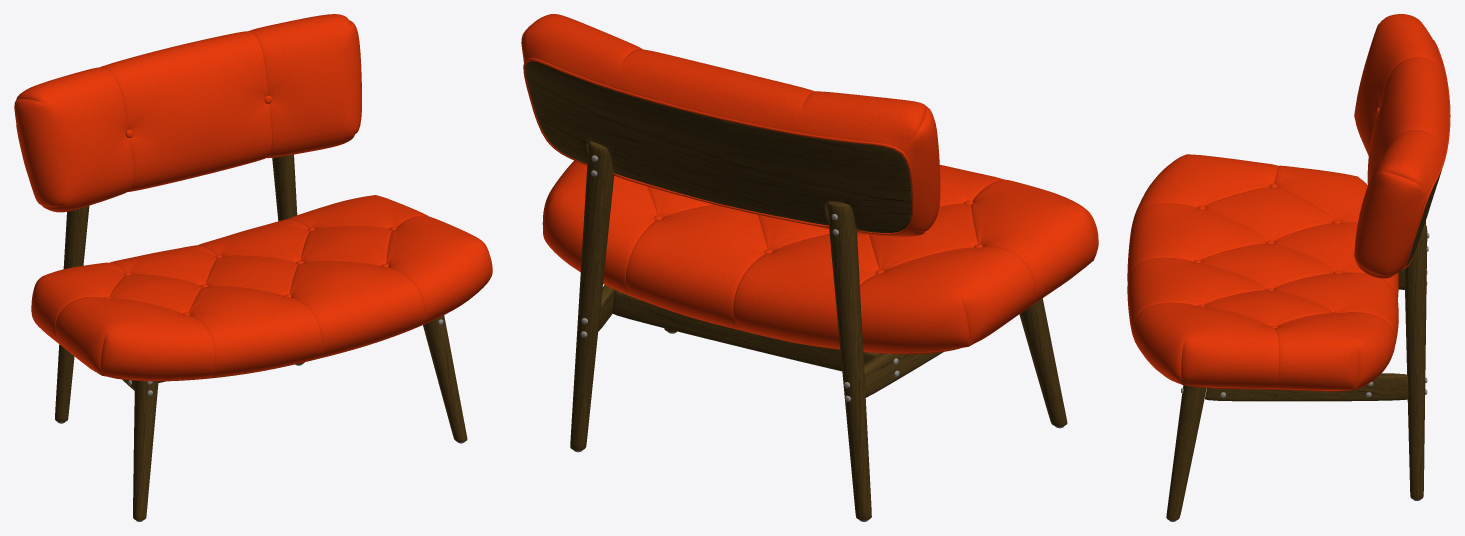
File: chair.glb
3 renders of one model, left to right at view 1: azimuth 30°, elevation 25°; view 2: azimuth 150°, elevation 25°; view 3: azimuth 270°, elevation 25°, orthographic. The views are drawn at different scales.
Bounding box in the file's own units: 0.8266 × 0.6863 × 0.5703.
Materials: 4 (3 with a texture image).
